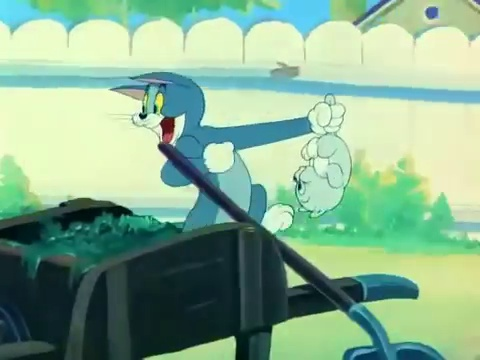tom: (110, 68, 209, 155)
